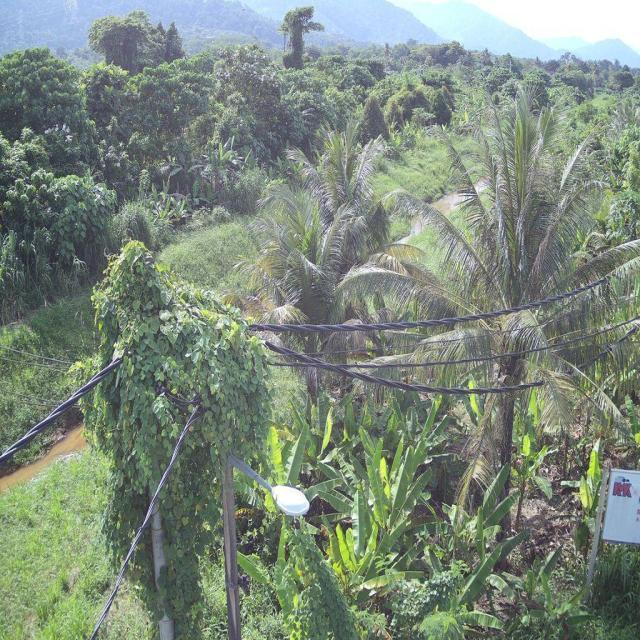critical vegetation: (84, 232, 350, 634)
